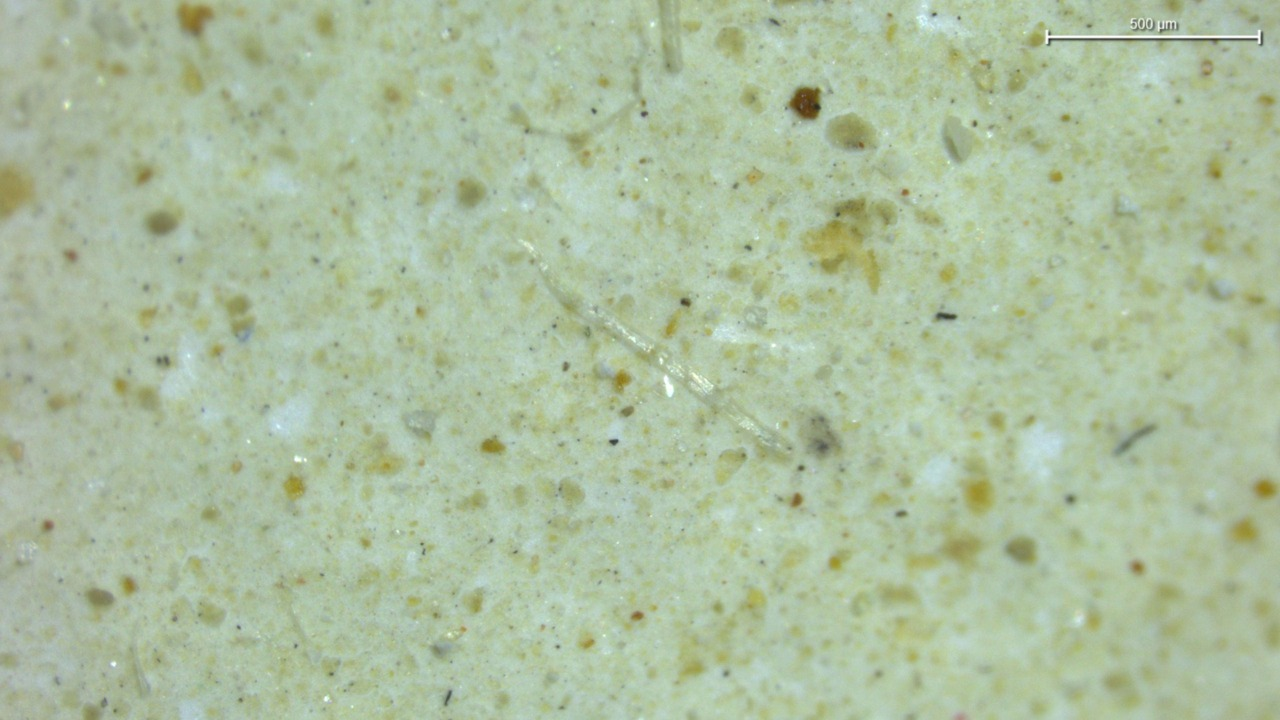microplastic_fragment: (942, 116, 976, 163), (404, 410, 437, 437)
